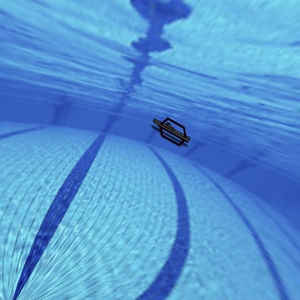submarine: (141, 102, 197, 156)
